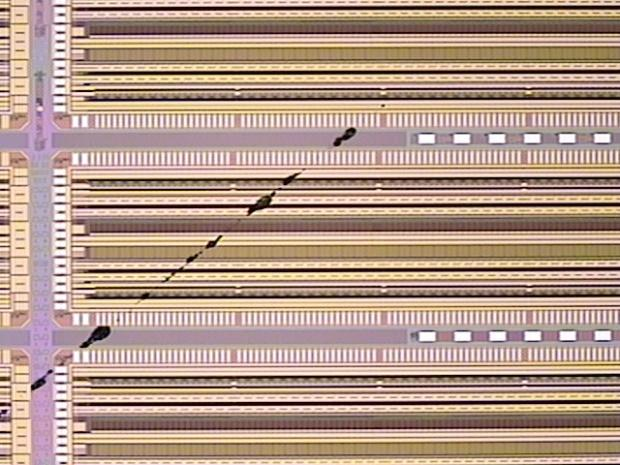SCRATCH: (1, 121, 372, 427)
